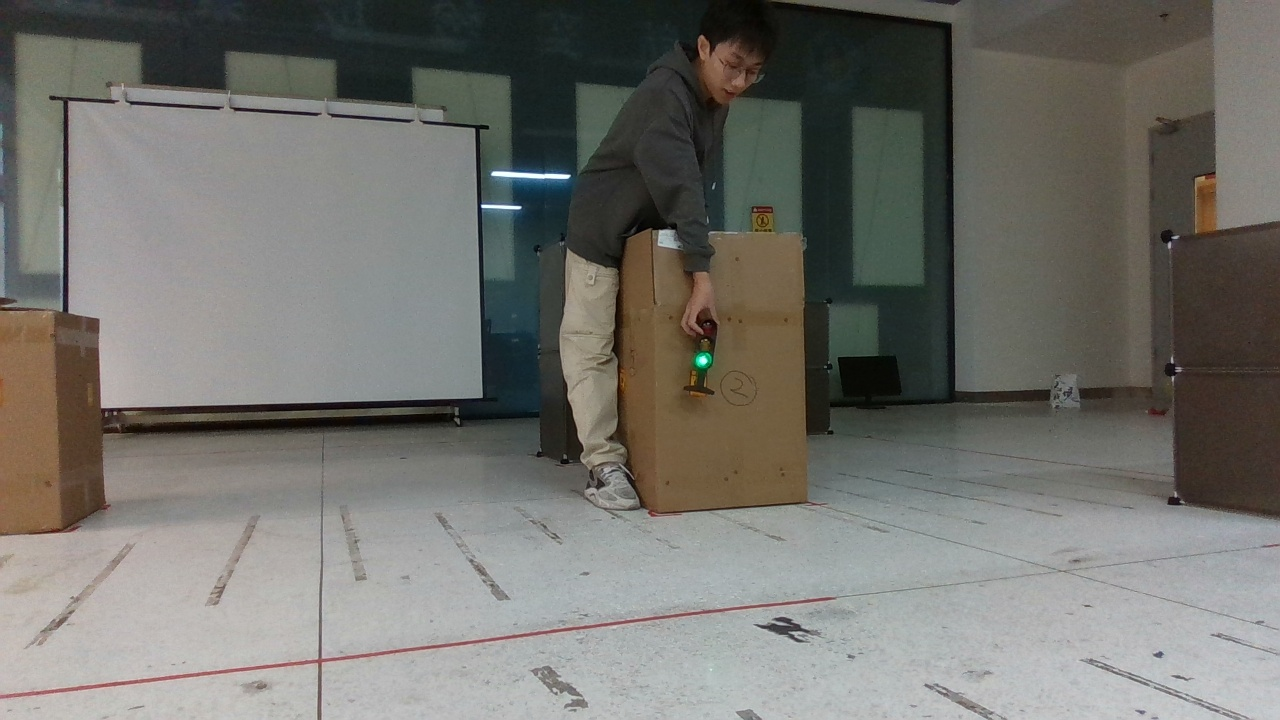green_light: (675, 309, 729, 404)
